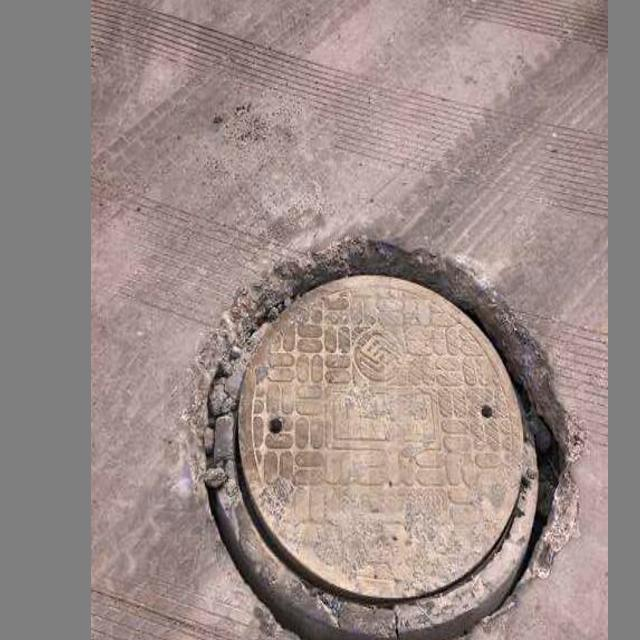circle: (194, 241, 564, 640)
